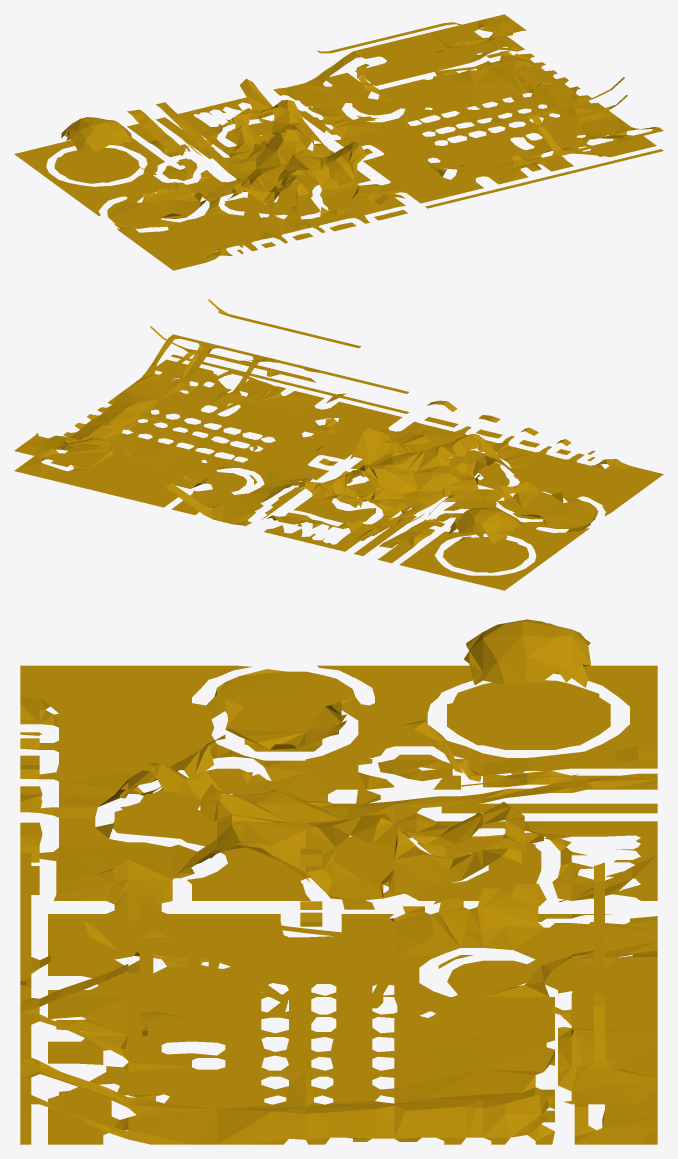
The model's file is navmesh.glb.
3 views of the same model, one above another, from view 1: azimuth 30°, elevation 25°; view 2: azimuth 150°, elevation 25°; view 3: azimuth 270°, elevation 25° (orthographic). The views are drawn at different scales.
Parts seen in each view (by area): view 1: nav-mesh-debug (×91); view 2: nav-mesh-debug (×80); view 3: nav-mesh-debug (×94).
Boxes of the visible parts, box(x1,y1,x2,y2) form: nav-mesh-debug (×91): box(14, 14, 658, 266); nav-mesh-debug (×80): box(14, 326, 658, 590); nav-mesh-debug (×94): box(20, 619, 657, 1144).
Size of the model in its own units: 81.8 by 13.4 by 46.
